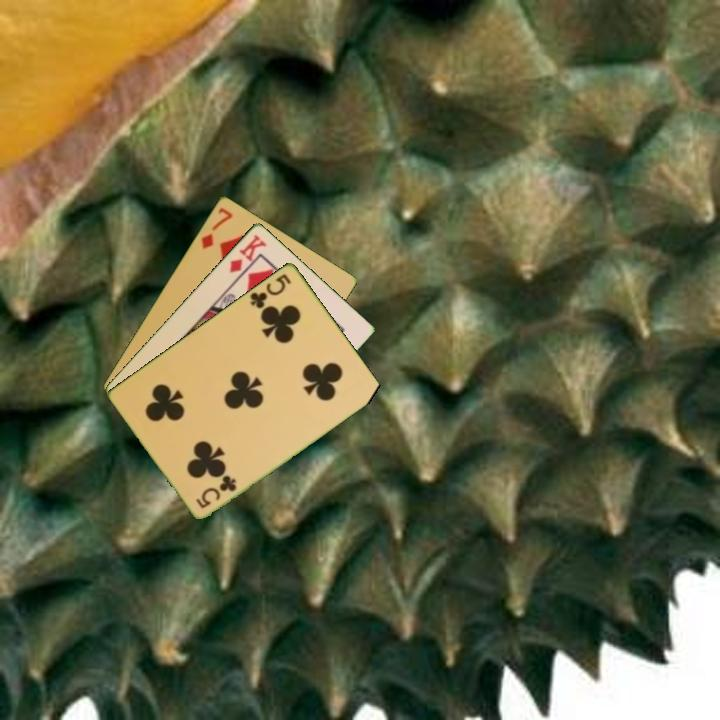5c: (246, 270, 294, 311), (192, 471, 240, 511)
7d: (197, 203, 235, 252)
Kd: (226, 231, 269, 275)
